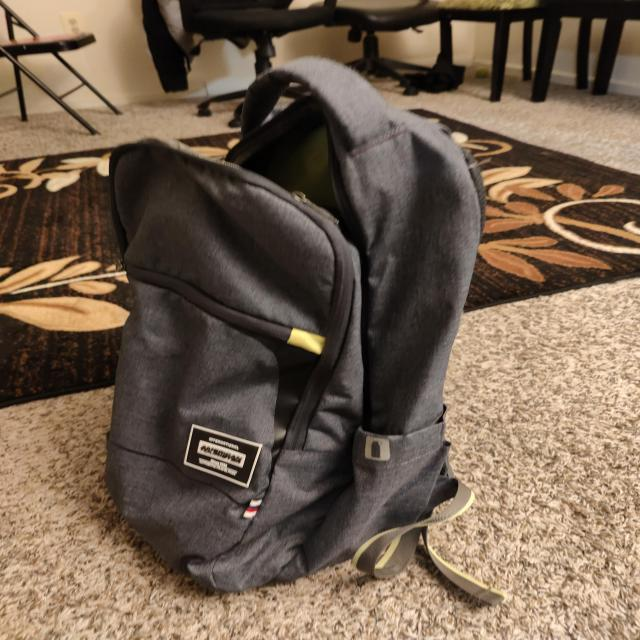bag: (98, 63, 486, 599)
